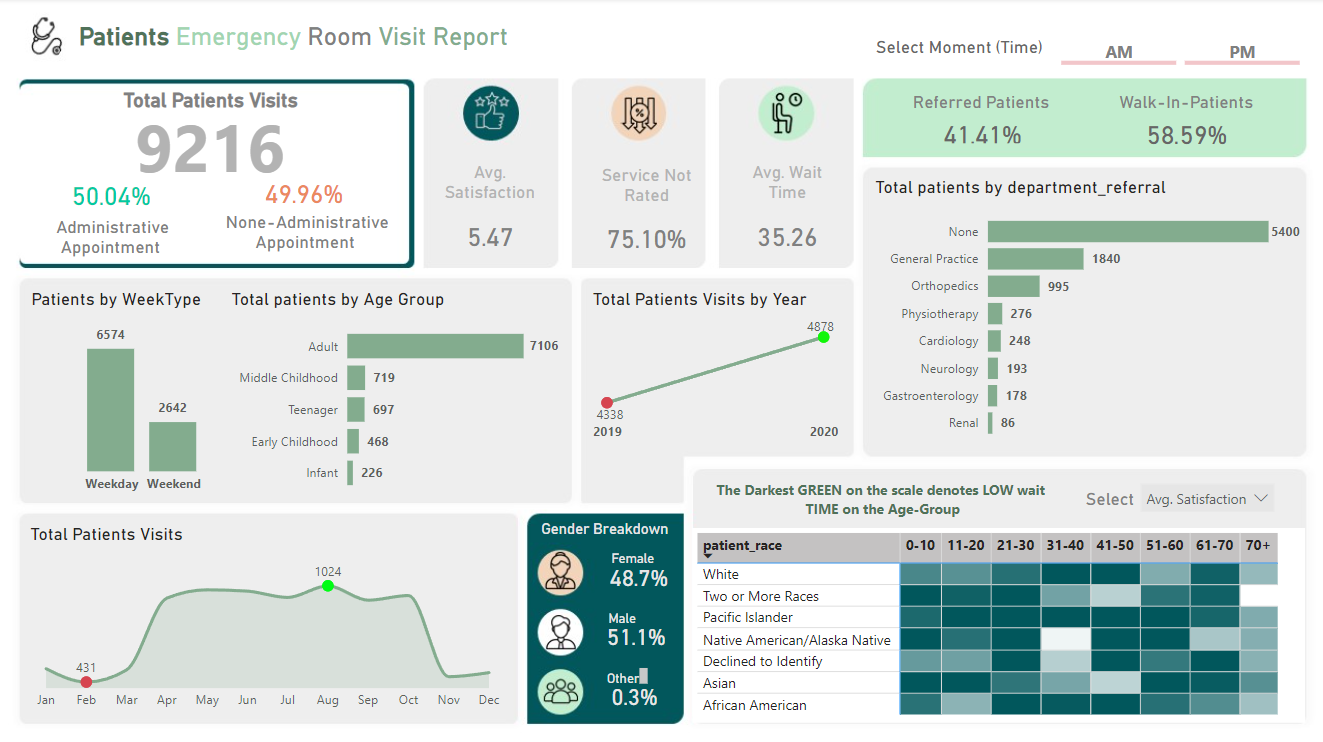

The page's visual inventory and layout, read from the dashboard file:
{"tool":"powerbi","page":{"name":"Page 1","canvas":[1280,720],"ordinal":0},"visuals":[{"type":"card","fields":{"Values":["Calculation.Total patient"]},"box":[112.1,104.3,181.4,74.3],"z":0},{"type":"card","fields":{"Values":["Calculation.% Administrative schedule"]},"box":[58.6,172.9,95.7,37.1],"z":1000},{"type":"card","fields":{"Values":["Calculation.% Non-administrative schedule"]},"box":[248.6,170,90,37.1],"z":2000},{"type":"card","title":"Avg. Satisfaction","fields":{"Values":["Calculation.Average satisfaction score"]},"box":[418.6,158.1,108.6,105.7],"z":3000},{"type":"card","title":"Service Not Rated","fields":{"Values":["Calculation.% No Rating"]},"box":[567.1,160,114.3,105.7],"z":4000},{"type":"card","title":"Avg. Wait Time","fields":{"Values":["Calculation.Average Wait Time"]},"box":[705.7,158.6,108.6,105.7],"z":5000},{"type":"pivotTable","fields":{"Values":["Calculation.Average satisfaction score"],"Rows":["Patients Dataset.patient_race"],"Columns":["Patients Dataset.Age Bucket"]},"box":[668.3,511.8,591.4,188],"z":6000},{"type":"slicer","fields":{"Values":["Parameter.Parameter"]},"box":[1090.3,458.3,148.9,42.2],"z":7000},{"type":"clusteredBarChart","fields":{"Category":["Patients Dataset.Age Group"],"Y":["Calculation.Total patients"]},"box":[218.6,280,325.7,208.6],"z":8000},{"type":"areaChart","title":"Total Patients Visits","fields":{"Category":["Date.Month"],"Y":["Calculation.Total patients","Calculation.Value Max Point(month)"]},"box":[24.3,507.1,468.6,188.6],"z":9000},{"type":"advancedSlicerVisual","fields":{"Values":["Patients Dataset.Moment"]},"box":[1019.6,22,240.1,48],"z":10000},{"type":"lineChart","title":"Total Patients Visits by Year","fields":{"Category":["Date.Year"],"Y":["Calculation.Total patients","Calculation.Value Max Point(Year)"]},"box":[567.1,280,247.1,157.1],"z":11000},{"type":"card","fields":{"Values":["Calculation.% Reffered Patient"]},"box":[904.3,117.1,87.1,28.6],"z":12000},{"type":"card","fields":{"Values":["Calculation.% Un Reffered Patient"]},"box":[1096.2,114.3,97.1,34.3],"z":13000},{"type":"card","fields":{"Values":["Calculation.Hitmap caption"]},"box":[660,455.6,384.2,56.3],"z":14000},{"type":"textbox","box":[37.1,205.7,138.6,50],"z":15000},{"type":"textbox","box":[200,201.4,188.6,50],"z":16000},{"type":"barChart","fields":{"Y":["Calculation.Total patients"],"Category":["Patients Dataset.department_referral"]},"box":[840,172.9,420,264.3],"z":17000},{"type":"textbox","box":[869.4,86.1,154.3,30],"z":18000},{"type":"textbox","box":[1067.1,86.1,154.3,30],"z":19000},{"type":"columnChart","title":"Patients by WeekType","fields":{"Y":["Calculation.Total patients"],"Category":["Date.WeekType"]},"box":[25.7,280,225.7,207.1],"z":20000},{"type":"textbox","box":[109.3,82.9,187.1,40],"z":21000},{"type":"card","fields":{"Values":["Calculation.% Female Visit"]},"box":[582.8,537,68,43.1],"z":21000,"group":"g2"},{"type":"textbox","box":[500,498.6,168.6,38.6],"z":22000},{"type":"card","fields":{"Values":["Calculation.% Male Visit"]},"box":[577.3,595,74.3,42.9],"z":22000,"group":"g1"},{"type":"group","id":"g1","title":"Group 1","box":[575.9,583.6,75.7,54.3],"z":23000},{"type":"card","fields":{"Values":["Calculation.% Others Visit"]},"box":[575.9,652.8,74.3,42.9],"z":23000,"group":"g3"},{"type":"group","id":"g2","title":"Group 2","box":[576.3,525.5,74.5,54.5],"z":24000},{"type":"group","id":"g3","title":"Group 3","box":[575.9,641.4,74.3,54.3],"z":25000},{"type":"textbox","box":[576.3,525.5,68,28.7],"z":25001,"group":"g2"},{"type":"textbox","box":[575.9,583.6,50,30],"z":25002,"group":"g1"},{"type":"textbox","box":[580.2,641.4,50,30],"z":25003,"group":"g3"},{"type":"textbox","box":[1035.8,468.3,70,31.1],"z":26000},{"type":"textbox","box":[71.4,17.8,437.7,48],"z":27000},{"type":"textbox","box":[832.9,32.9,186.6,39.8],"z":28000}]}

Visuals, with their boxes in screenshot pixels (x1, y1, x2, y2), scaled from the page's 1280x720 canvas onto the 1323x742 screenshot:
card - Calculation.Total patient: select_region(116, 107, 303, 184)
card - Calculation.% Administrative schedule: select_region(61, 178, 159, 216)
card - Calculation.% Non-administrative schedule: select_region(257, 175, 350, 213)
"Avg. Satisfaction" card: select_region(433, 163, 545, 272)
"Service Not Rated" card: select_region(586, 165, 704, 274)
"Avg. Wait Time" card: select_region(729, 163, 842, 272)
pivotTable - Calculation.Average satisfaction score x Patients Dataset.patient_race: select_region(691, 527, 1302, 721)
slicer - Parameter.Parameter: select_region(1127, 472, 1281, 516)
clusteredBarChart - Patients Dataset.Age Group x Calculation.Total patients: select_region(226, 289, 563, 504)
"Total Patients Visits" areaChart: select_region(25, 523, 509, 717)
advancedSlicerVisual - Patients Dataset.Moment: select_region(1054, 23, 1302, 72)
"Total Patients Visits by Year" lineChart: select_region(586, 289, 842, 450)
card - Calculation.% Reffered Patient: select_region(935, 121, 1025, 150)
card - Calculation.% Un Reffered Patient: select_region(1133, 118, 1233, 153)
card - Calculation.Hitmap caption: select_region(682, 470, 1079, 528)
textbox: select_region(38, 212, 182, 264)
textbox: select_region(207, 208, 402, 259)
barChart - Calculation.Total patients x Patients Dataset.department_referral: select_region(868, 178, 1302, 451)
textbox: select_region(899, 89, 1058, 120)
textbox: select_region(1103, 89, 1262, 120)
"Patients by WeekType" columnChart: select_region(27, 289, 260, 502)
textbox: select_region(113, 85, 306, 127)
card - Calculation.% Female Visit: select_region(602, 553, 673, 598)
textbox: select_region(517, 514, 691, 554)
card - Calculation.% Male Visit: select_region(597, 613, 673, 657)
"Group 1" group: select_region(595, 601, 673, 657)
card - Calculation.% Others Visit: select_region(595, 673, 672, 717)
"Group 2" group: select_region(596, 542, 673, 598)
"Group 3" group: select_region(595, 661, 672, 717)
textbox: select_region(596, 542, 666, 571)
textbox: select_region(595, 601, 647, 632)
textbox: select_region(600, 661, 651, 692)
textbox: select_region(1071, 483, 1143, 515)
textbox: select_region(74, 18, 526, 68)
textbox: select_region(861, 34, 1054, 75)
